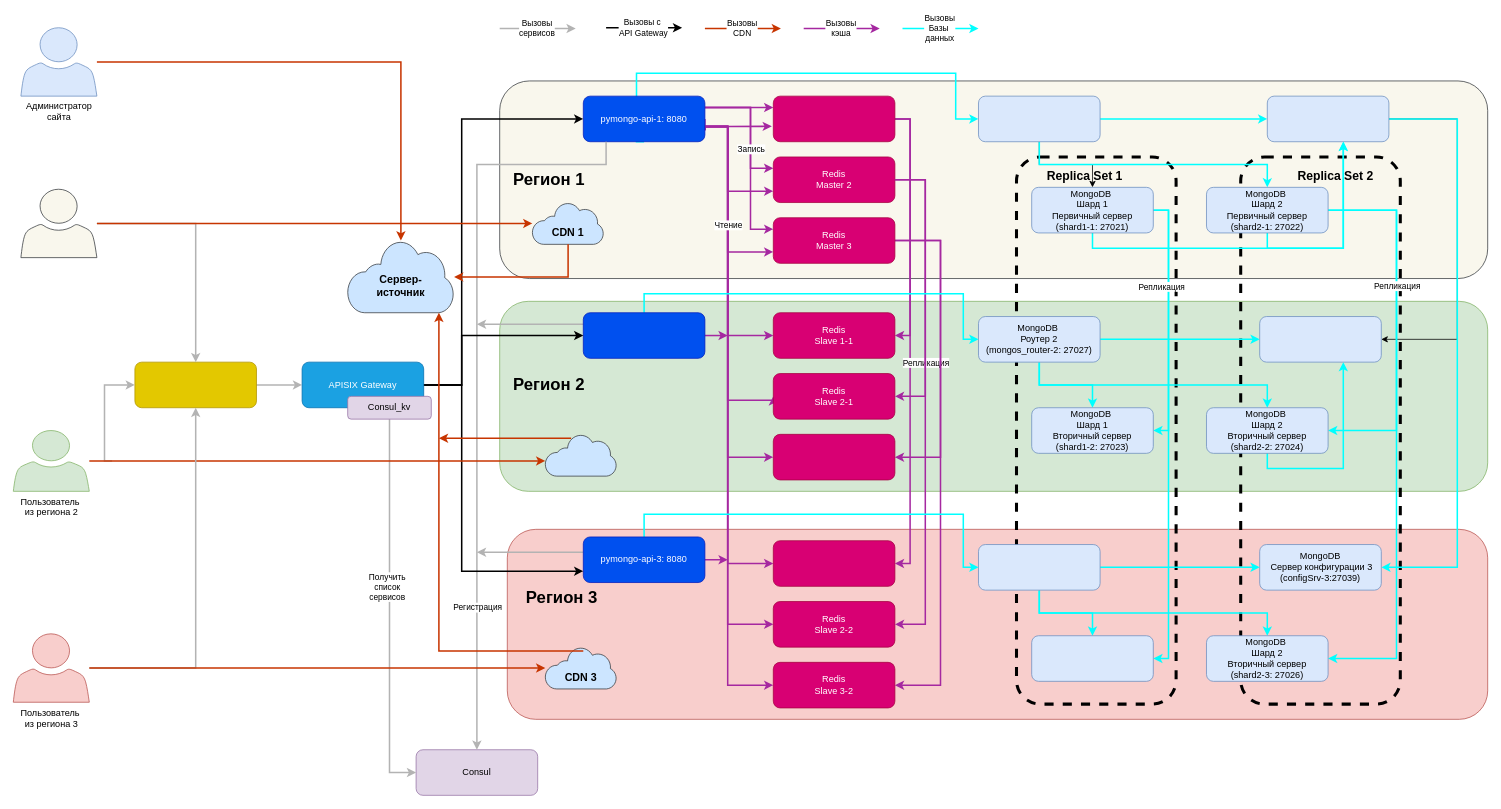
The diagram is 1501 pixels wide and 809 high, and some of its shapes have lost their labels. The shapes that lost their labels are listed below. From the top down, each one's box as (x1, y1, x2, y2) in pixels, then its label:
(773, 95, 895, 142): Redis Master 1
(978, 95, 1100, 142): MongoDB Роутер 1 (mongos_router-1: 27017)
(1267, 95, 1389, 142): MongoDB Сервер конфигурации 1 (configSrv-1: 27019)
(20, 188, 97, 258): Пользователь из региона 1
(583, 312, 705, 358): pymongo-api-2: 8080
(1259, 316, 1381, 362): MongoDB Сервер конфигурации 2 (configSrv-2: 27029)
(134, 361, 256, 408): Сайт
(545, 434, 617, 476): CDN 2
(773, 434, 895, 480): Redis Slave 3-1
(773, 540, 895, 586): Redis Slave 1-2
(978, 544, 1100, 590): MongoDB Роутер 3 (mongos_router-3: 27037)
(1031, 635, 1153, 681): MongoDB Шард 1 Вторичный сервер (shard1-3: 27025)
